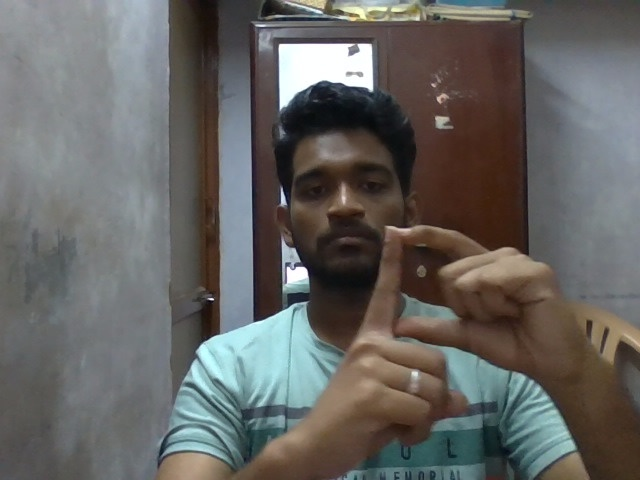D: (295, 223, 591, 469)
